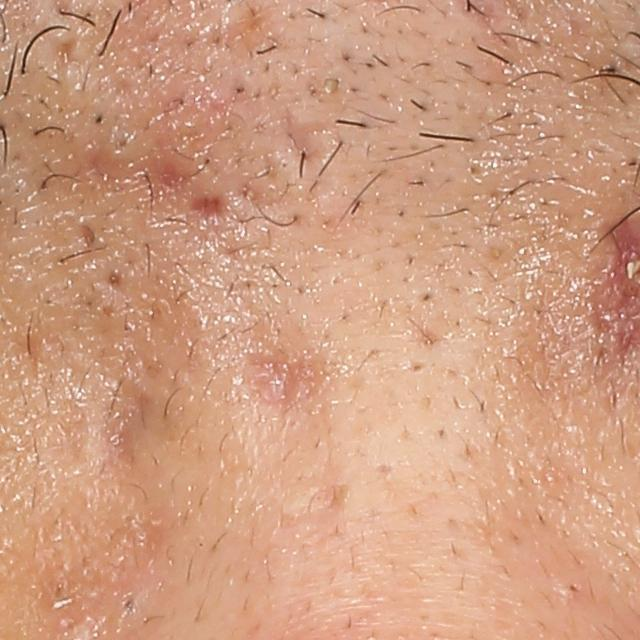atrophic_scar: (92, 369, 167, 470), (279, 482, 355, 529), (247, 352, 306, 410), (135, 151, 191, 212), (277, 115, 321, 190), (92, 149, 137, 205), (186, 190, 231, 223), (54, 37, 79, 66), (105, 268, 124, 291), (80, 224, 95, 248)
